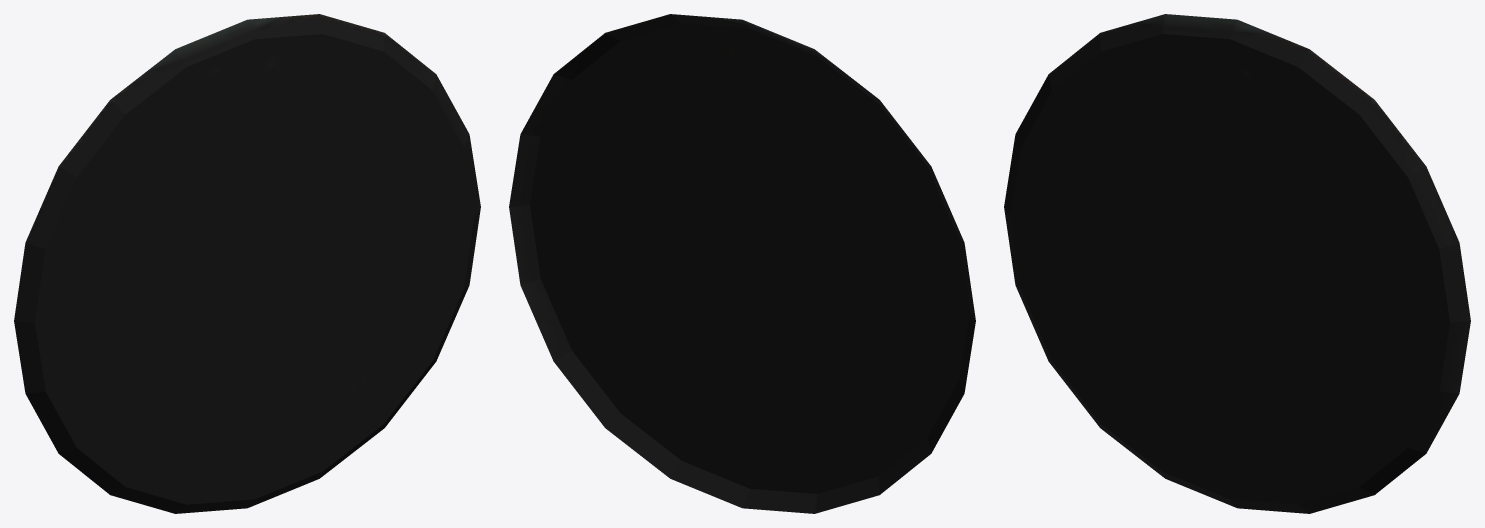
File: battle_enemy_portrait.DAE
3 views of the same model, side by side, from view 1: azimuth 30°, elevation 25°; view 2: azimuth 150°, elevation 25°; view 3: azimuth 330°, elevation 25° (orthographic).
Visible parts, largest first — view 1: player_004; view 2: player_004; view 3: player_004.
Boxes of the visible parts, x1=… form: player_004: x1=14, y1=14, x2=480, y2=513; player_004: x1=509, y1=14, x2=975, y2=513; player_004: x1=1004, y1=14, x2=1470, y2=513.
Bounding box in the file's own units: 121 × 121 × 3.29.
1 material, 1 textured.
